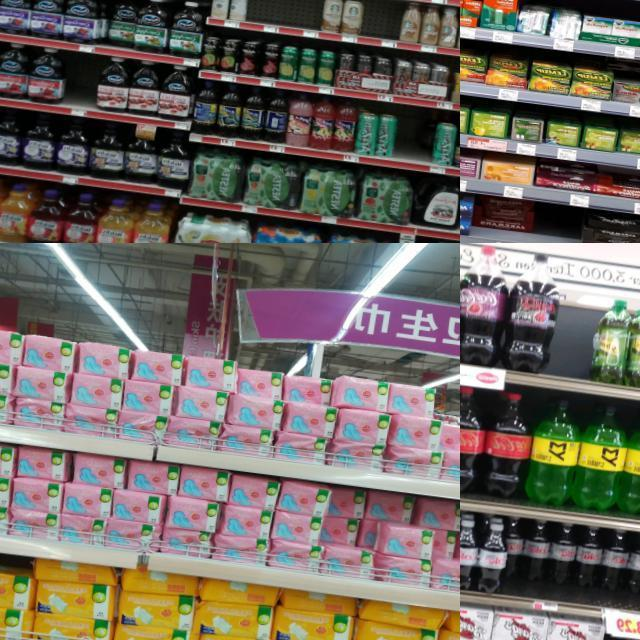Imprecise: (321, 494, 459, 578), (511, 517, 640, 601), (460, 194, 542, 248)
